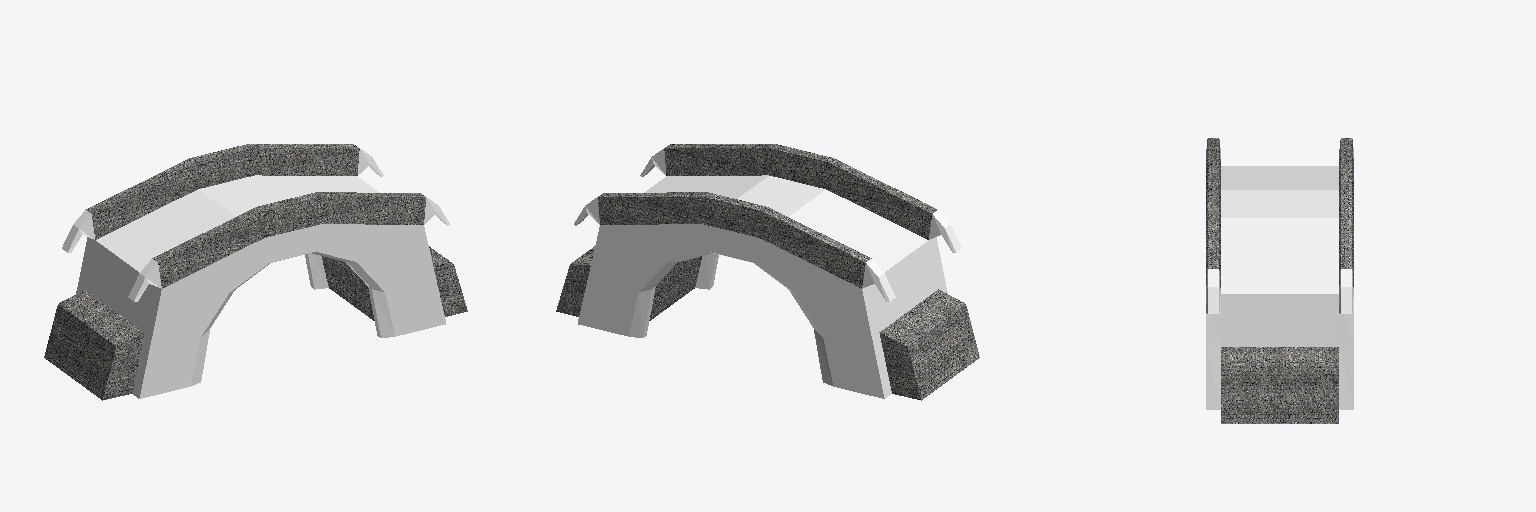
3 views of the same model, side by side, from view 1: azimuth 30°, elevation 25°; view 2: azimuth 150°, elevation 25°; view 3: azimuth 270°, elevation 25° (orthographic).
Parts seen in each view (by area): view 1: TexturesCom_FloorsMedieval0051_M, TexturesCom_FloorsMedieval0053_1_M; view 2: TexturesCom_FloorsMedieval0051_M, TexturesCom_FloorsMedieval0053_1_M; view 3: TexturesCom_FloorsMedieval0051_M, TexturesCom_FloorsMedieval0053_1_M.
Boxes of the visible parts, <box> form: TexturesCom_FloorsMedieval0051_M: <box>62,147,449,398</box>; TexturesCom_FloorsMedieval0053_1_M: <box>44,144,467,400</box>; TexturesCom_FloorsMedieval0051_M: <box>574,147,961,398</box>; TexturesCom_FloorsMedieval0053_1_M: <box>556,144,979,400</box>; TexturesCom_FloorsMedieval0051_M: <box>1206,139,1353,409</box>; TexturesCom_FloorsMedieval0053_1_M: <box>1206,138,1353,423</box>.
Size of the model in its own units: 14.27 by 5.87 by 5.
2 materials, 1 textured.